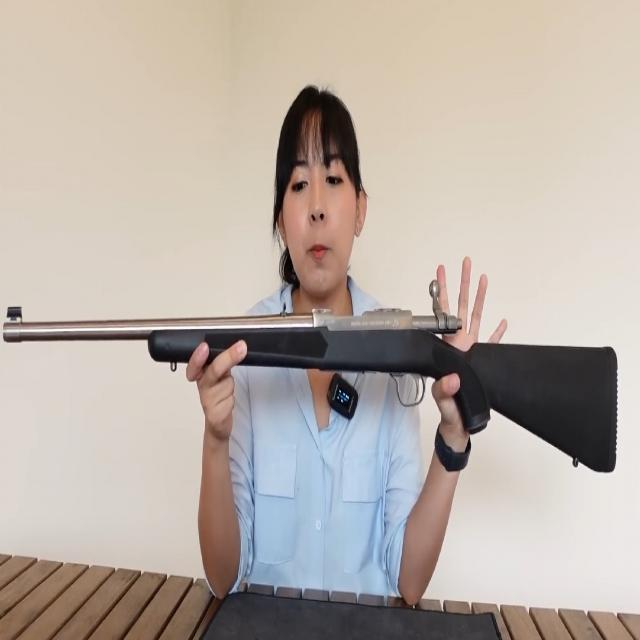rifle: (2, 256, 624, 496)
